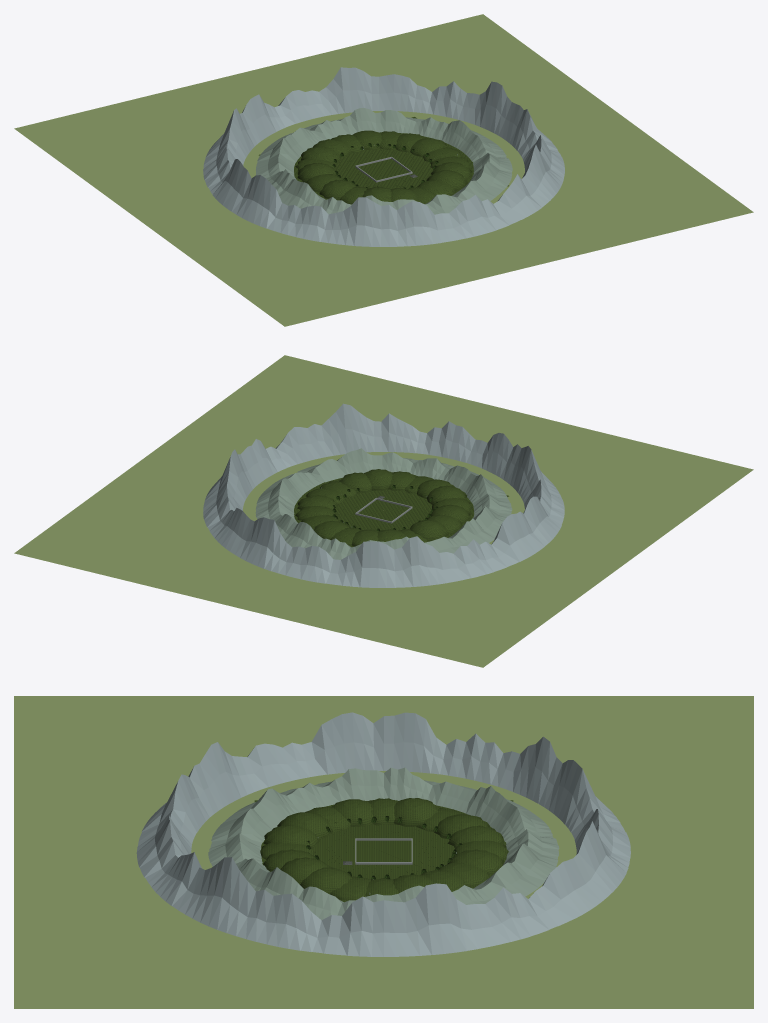
The model's file is defense_3_v2.glb.
3 renders of one model, top to bottom at view 1: azimuth 30°, elevation 25°; view 2: azimuth 150°, elevation 25°; view 3: azimuth 270°, elevation 25°, orthographic. The views are drawn at different scales.
Visible parts, largest first — view 1: DISTANT_ground, DISTANT_far, DISTANT_near, meadow_ground, PLAZA_FLAT; view 2: DISTANT_ground, DISTANT_far, DISTANT_near, meadow_ground, PLAZA_FLAT; view 3: DISTANT_ground, DISTANT_far, DISTANT_near, meadow_ground, PLAZA_FLAT.
Boxes of the visible parts, x1,y1,x2,y2 form: DISTANT_ground: [14, 14, 753, 326]; DISTANT_far: [203, 67, 564, 246]; DISTANT_near: [256, 108, 512, 214]; meadow_ground: [295, 130, 471, 204]; PLAZA_FLAT: [259, 117, 508, 200]; DISTANT_ground: [14, 355, 753, 667]; DISTANT_far: [203, 403, 564, 587]; DISTANT_near: [255, 448, 512, 559]; meadow_ground: [295, 469, 472, 546]; PLAZA_FLAT: [294, 476, 508, 547]; DISTANT_ground: [14, 696, 753, 1008]; DISTANT_far: [136, 712, 630, 956]; DISTANT_near: [208, 767, 559, 920]; meadow_ground: [260, 798, 508, 900]; PLAZA_FLAT: [254, 800, 513, 902].
Bounding box in the file's own units: 1260 × 144 × 1260.
10 materials, 5 textured.
